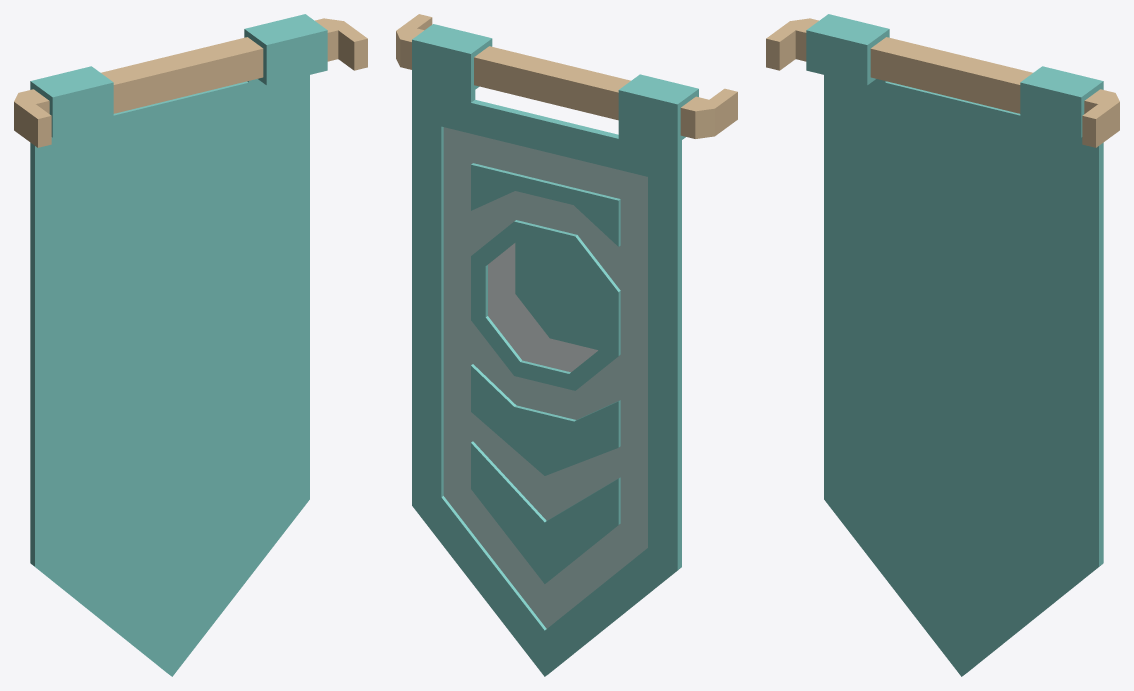
The model's file is prop_flag_moon.glb.
3 views of the same model, side by side, from view 1: azimuth 30°, elevation 25°; view 2: azimuth 150°, elevation 25°; view 3: azimuth 330°, elevation 25° (orthographic). The views are drawn at different scales.
Visible parts, largest first — view 1: object2, object1; view 2: object2, object1; view 3: object2, object1.
Part boxes in pixels (<box>): object2: <box>30,14,327,676</box>; object1: <box>14,18,367,147</box>; object2: <box>412,24,698,676</box>; object1: <box>396,14,737,138</box>; object2: <box>806,14,1103,676</box>; object1: <box>766,18,1119,147</box>.
Bounding box in the file's own units: 0.54 × 0.979 × 0.099.
